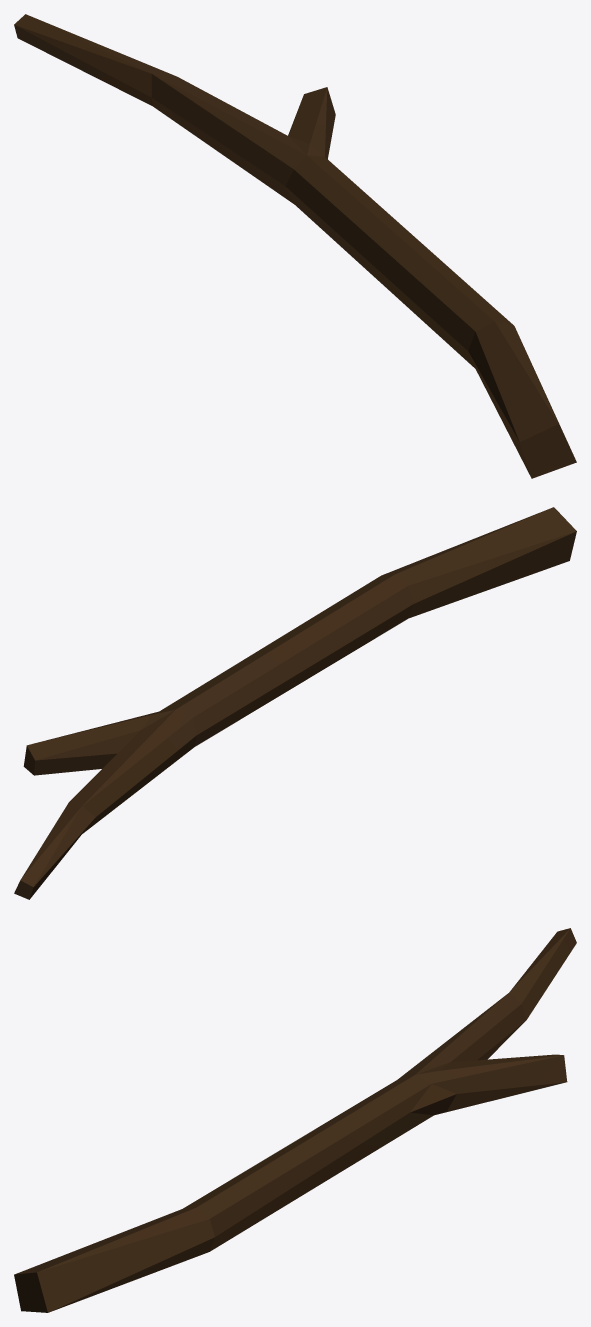
File: branch_1.fbx
3 views of the same model, one above another, from view 1: azimuth 30°, elevation 25°; view 2: azimuth 150°, elevation 25°; view 3: azimuth 330°, elevation 25° (orthographic). The views are drawn at different scales.
Parts seen in each view (by area): view 1: Cube; view 2: Cube; view 3: Cube.
Boxes of the visible parts, x1,y1,x2,y2 form: Cube: (14,14,576,478); Cube: (14,507,576,899); Cube: (14,928,576,1312).
Bounding box in the file's own units: 0.1542 × 0.0351 × 0.6881.
